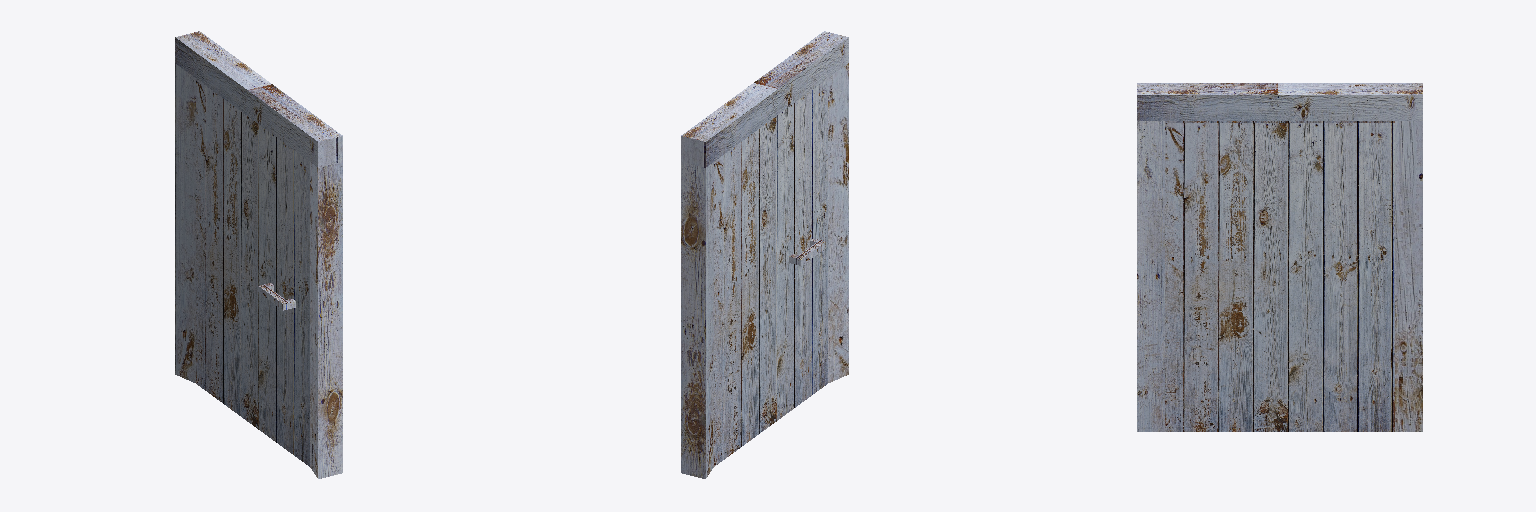
The picture shows the model from 3 angles: view 1: azimuth 30°, elevation 25°; view 2: azimuth 150°, elevation 25°; view 3: azimuth 270°, elevation 25°; orthographic projection.
Parts seen in each view (by area): view 1: UModeler Object; view 2: UModeler Object; view 3: UModeler Object.
Part boxes in pixels (left/top/right/bottom): UModeler Object: left=175, top=31, right=342, bottom=478; UModeler Object: left=681, top=31, right=848, bottom=478; UModeler Object: left=1137, top=83, right=1422, bottom=431.
Size of the model in its own units: 0.1562 by 1.62 by 1.25.
Materials: 1 (1 with a texture image).